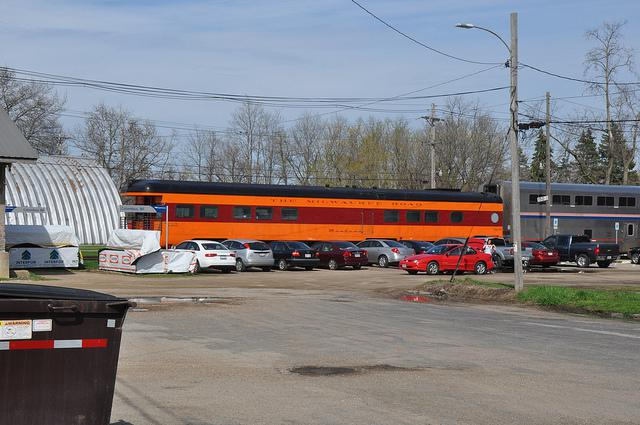Train: (120, 182, 640, 266)
